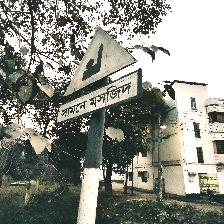Mosque in front: (55, 27, 142, 126)
